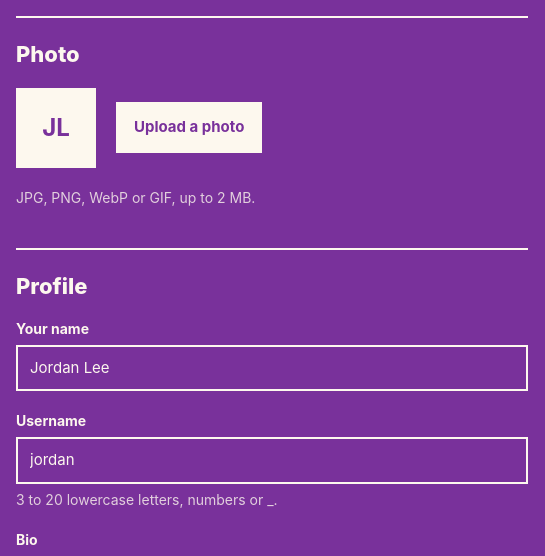
Test: Settings › explains a bad username without saving
Replace the text in the field labelled "Username" with "j" at (272, 461), box [16,437,528,484]
(page scrolled)
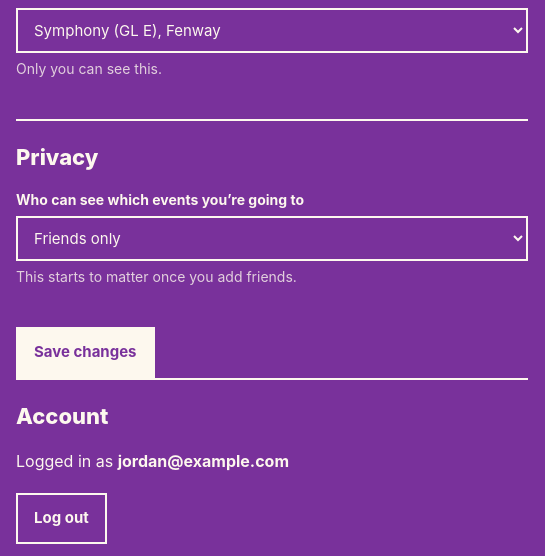
Click the button "Save changes" at (85, 353), box [16,327,154,378]
(page scrolled)
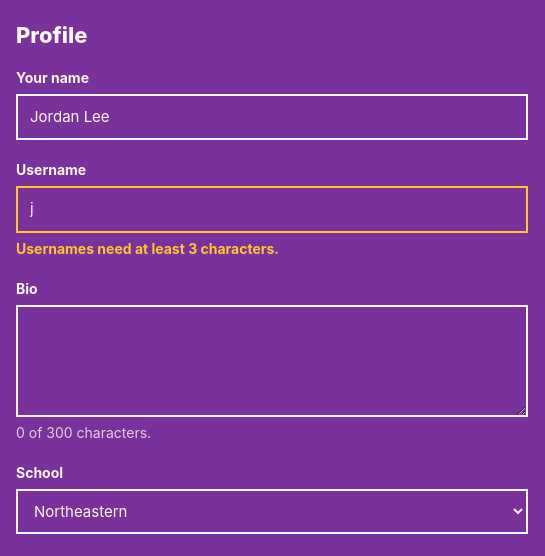
Result: the text "Usernames need at least 3 characters." is shown at [16,240,279,257]
